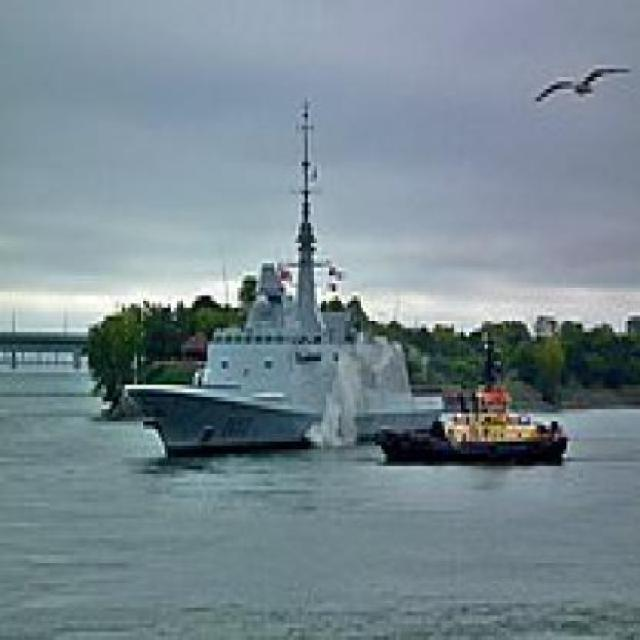warship2: (123, 94, 437, 479)
